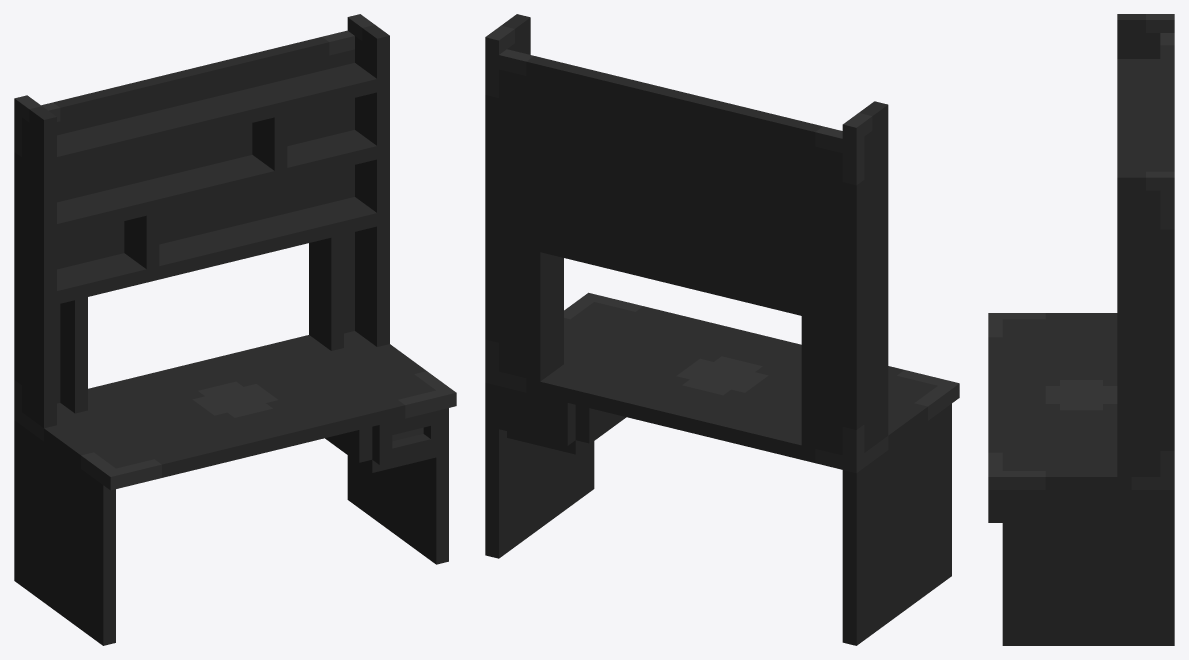
File: Decor-48.obj
The picture shows the model from 3 angles, left to right: view 1: azimuth 30°, elevation 25°; view 2: azimuth 150°, elevation 25°; view 3: azimuth 270°, elevation 25°; orthographic projection. The views are drawn at different scales.
Bounding box in the file's own units: 2.7 × 3.6 × 1.3.
1 material, 1 textured.
